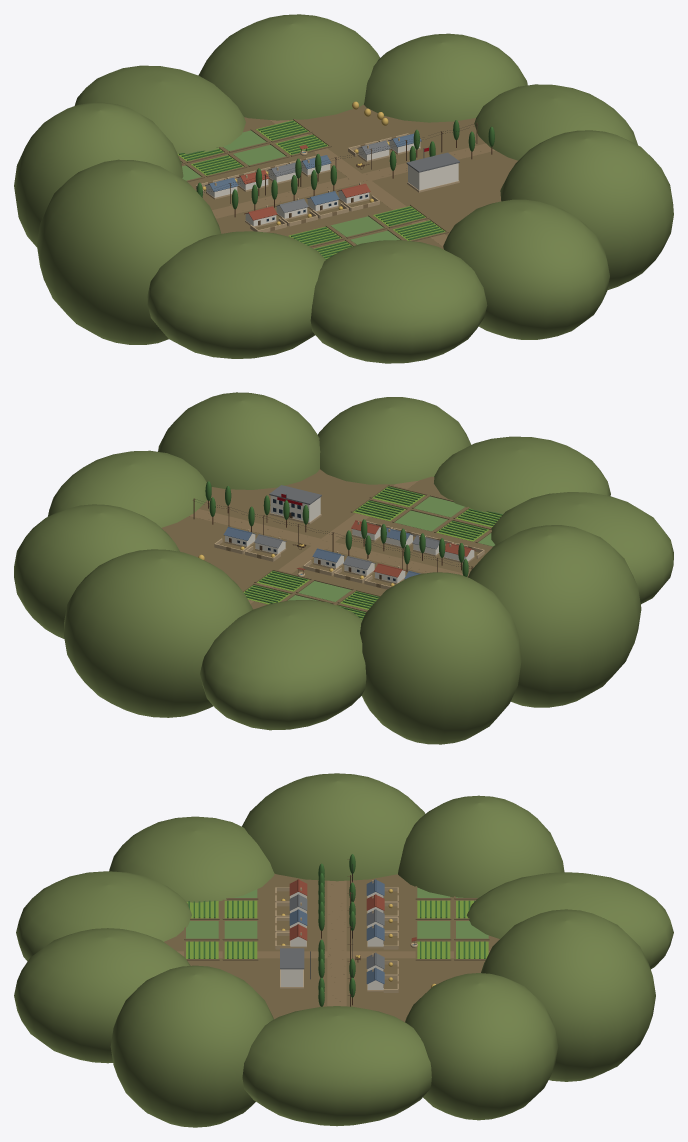
The model's file is map_nk_village.glb.
The picture shows the model from 3 angles, top to bottom: view 1: azimuth 30°, elevation 25°; view 2: azimuth 150°, elevation 25°; view 3: azimuth 270°, elevation 25°; orthographic projection.
Visible parts, largest first — view 1: Map; view 2: Map; view 3: Map.
Boxes of the visible parts, x1=… form: Map: x1=14, y1=14, x2=673, y2=363; Map: x1=14, y1=392, x2=673, y2=744; Map: x1=14, y1=773, x2=673, y2=1127.
Size of the model in its own units: 202 by 55.61 by 205.
